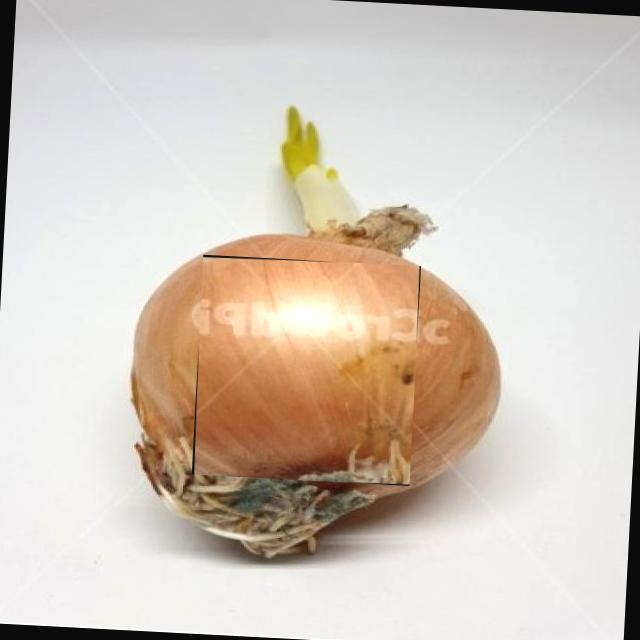healthy: (192, 255, 421, 486)
